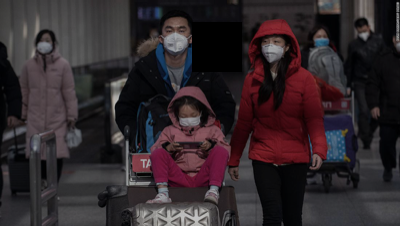with_mask: (162, 24, 192, 54), (261, 36, 287, 63), (176, 109, 202, 127), (37, 36, 55, 54), (357, 27, 371, 42), (312, 33, 329, 45)
